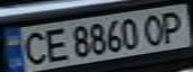0: (118, 15, 142, 49)
6: (103, 18, 127, 53)
8: (87, 20, 109, 56), (69, 21, 90, 57)
C: (18, 28, 51, 66)
E: (39, 25, 69, 63)
O: (139, 11, 169, 46)
P: (157, 8, 190, 44)
